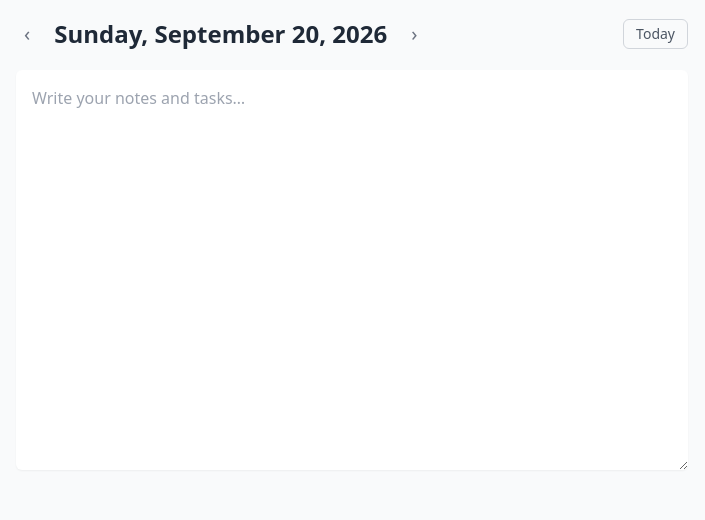
Test: DailyNoteView › editing › stays on the day when its edit fails to save and the user keeps it
Type "Draft" into the text box with placeholder "Write your notes and tasks…".
click(352, 270); type("Draft")  # box [16,70,688,470]
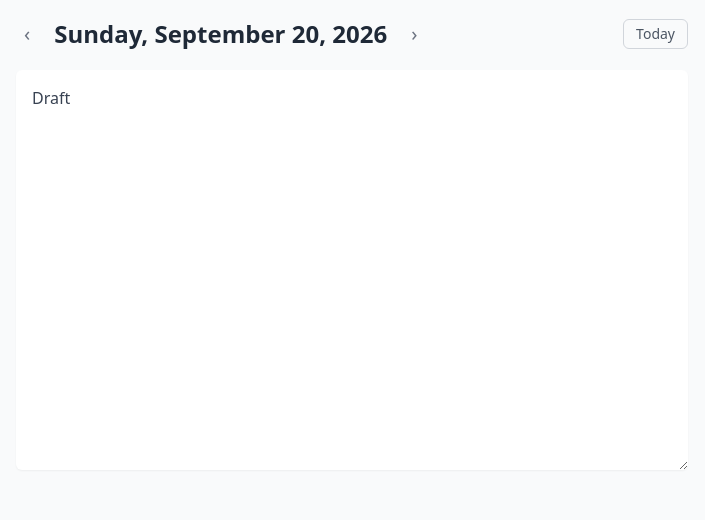
Click the button named "Next day".
click(414, 34)  # box [403,16,425,52]
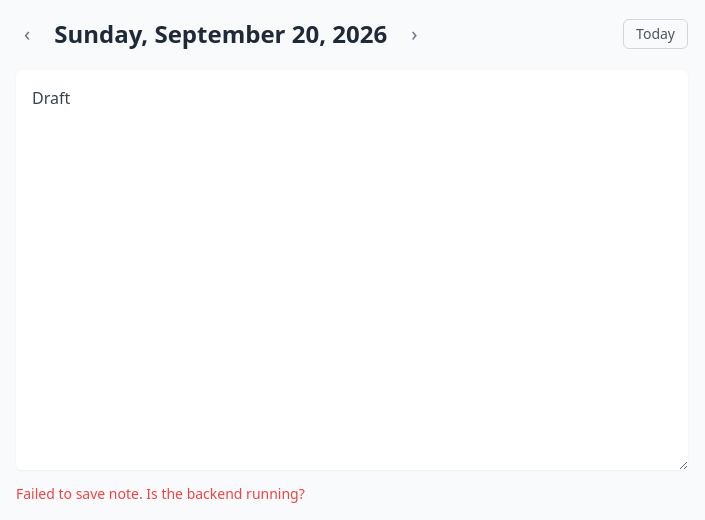
Now the text "Failed to save note" is shown, box [16,484,305,503]
